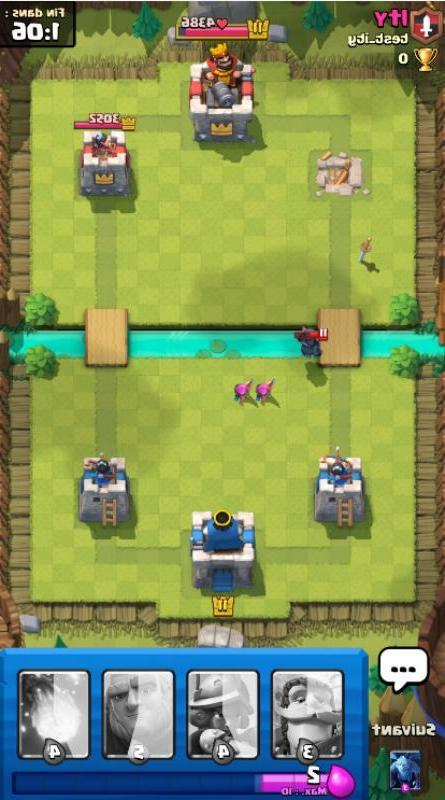enemy_mini_pekka: (286, 321, 334, 362)
player_archers: (252, 375, 280, 407), (229, 375, 253, 406)
